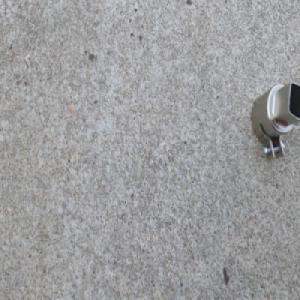MetalPart: (248, 78, 300, 164)
